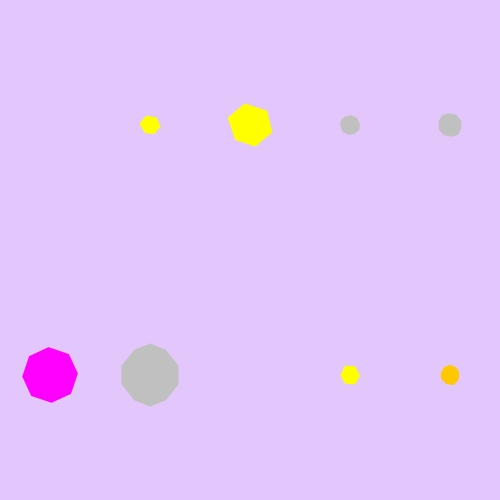decagon: (116, 344, 185, 407), (433, 110, 467, 141), (335, 111, 365, 139)
hexagon: (223, 103, 277, 148), (135, 112, 165, 138), (335, 362, 365, 388)
nonagon: (436, 361, 465, 389)
octagon: (19, 344, 82, 407)
